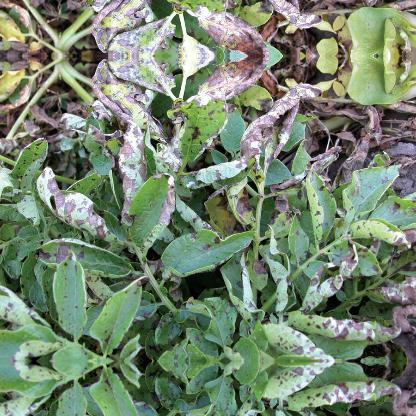Early-Blight: (8, 60, 410, 348)
